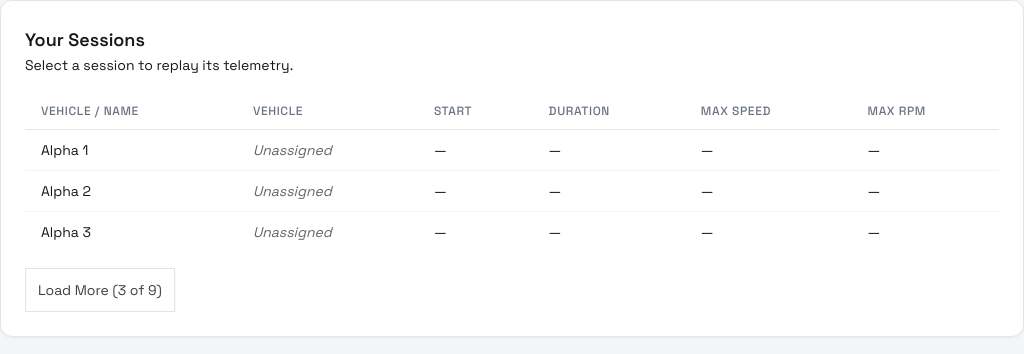
Test: SessionBrowser pagination (jsdom) › stops paging when an offset window comes back empty
Click the button "Load More (3 of 9)" at (100, 290), box [25, 268, 175, 312]
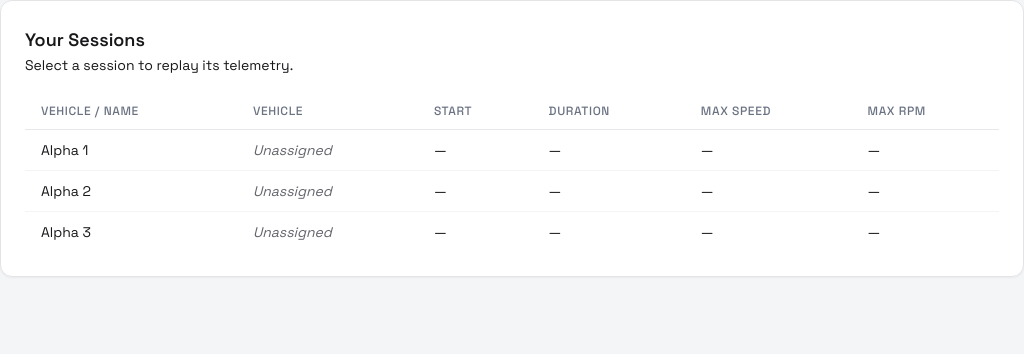
Expected: the button "Load More" is gone
